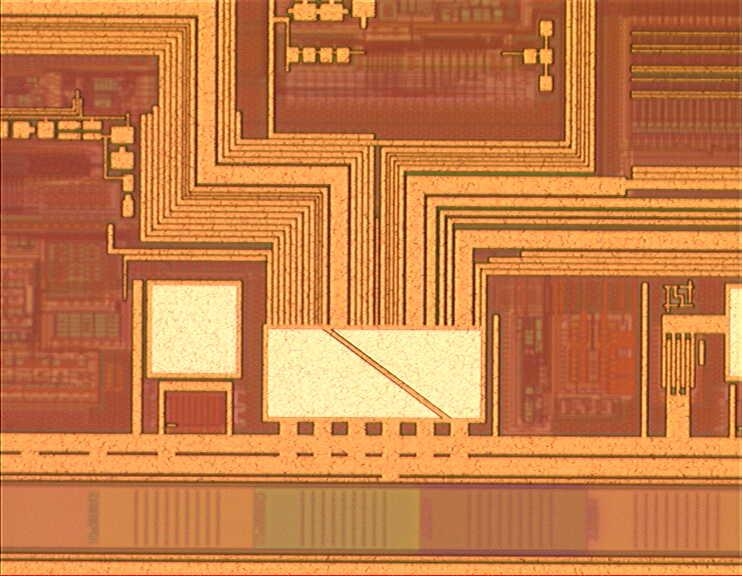BLOCK ETCH: (321, 330, 454, 419)
